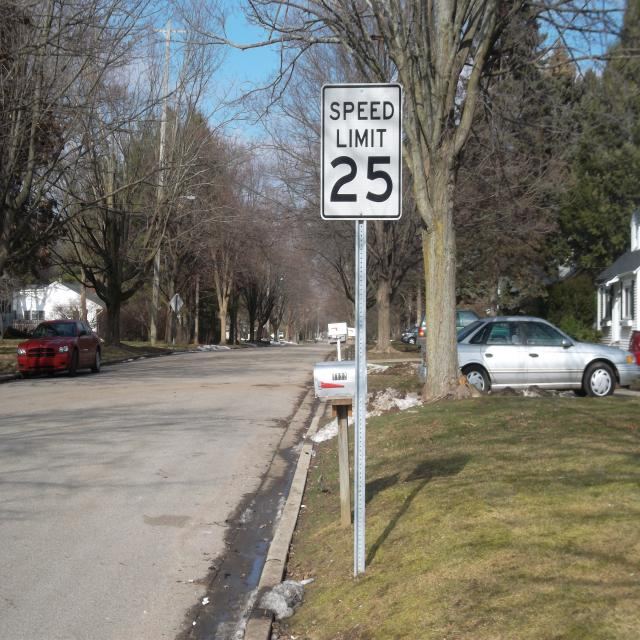regulatory: (322, 80, 401, 217)
